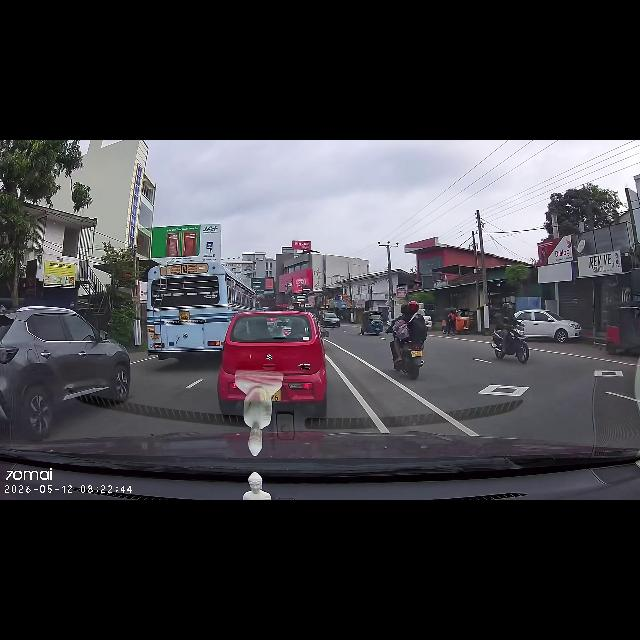bus: (152, 266, 216, 354)
car: (5, 308, 115, 402), (233, 314, 314, 404), (322, 315, 336, 327)
double_solid_line: (348, 378, 464, 444)
helmet: (409, 303, 417, 315), (503, 302, 511, 314), (402, 304, 410, 312)
motorcycle: (388, 338, 420, 368), (490, 333, 526, 357)
person: (496, 306, 516, 342), (406, 314, 426, 342), (392, 315, 408, 329)
three_wheeler: (367, 313, 383, 333)
